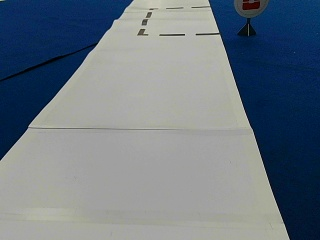company: (233, 0, 268, 18)
